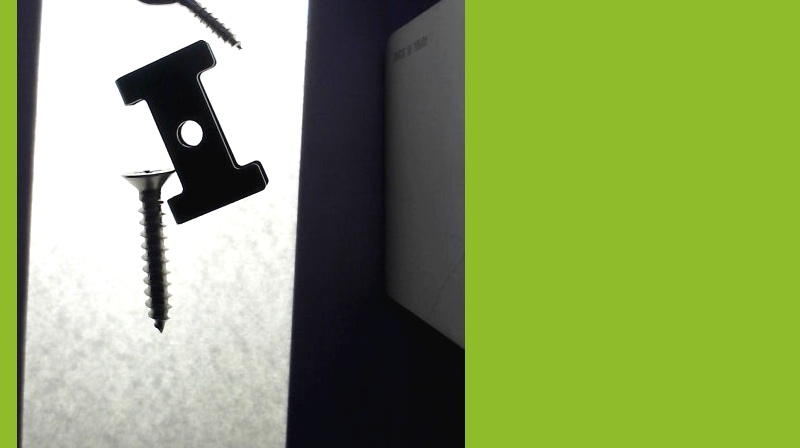O001: (115, 0, 247, 53)
O002: (113, 40, 268, 224)
S001: (119, 165, 170, 333)
